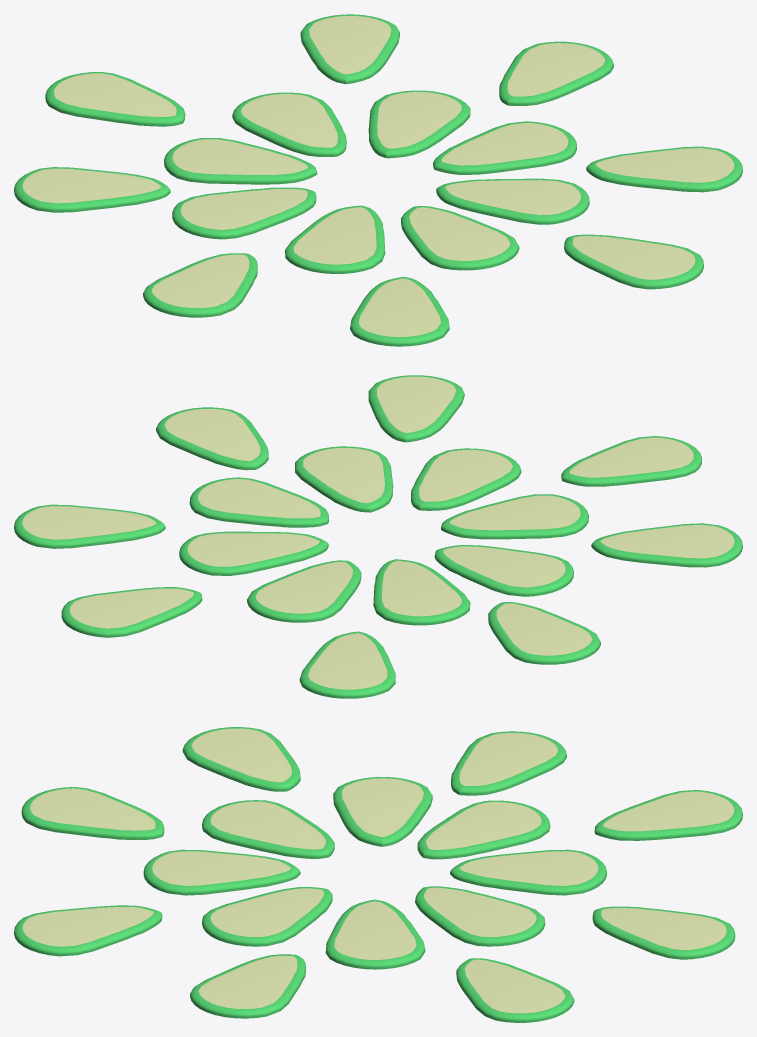
The model's file is y_platform.obj.
3 views of the same model, one above another, from view 1: azimuth 30°, elevation 25°; view 2: azimuth 150°, elevation 25°; view 3: azimuth 270°, elevation 25° (orthographic). The views are drawn at different scales.
Parts seen in each view (by area): view 1: Circle.039_zemin_yeşil, Circle.039_m_yeşil; view 2: Circle.039_zemin_yeşil, Circle.039_m_yeşil; view 3: Circle.039_zemin_yeşil, Circle.039_m_yeşil.
Part boxes in pixels (x1,y1,x2,y2): Circle.039_zemin_yeşil: [22, 16, 734, 336]; Circle.039_m_yeşil: [14, 14, 742, 346]; Circle.039_zemin_yeşil: [22, 376, 734, 689]; Circle.039_m_yeşil: [14, 375, 742, 698]; Circle.039_zemin_yeşil: [22, 728, 734, 1013]; Circle.039_m_yeşil: [14, 727, 742, 1022].
Bounding box in the file's own units: 39.75 × 0.422 × 41.91.
